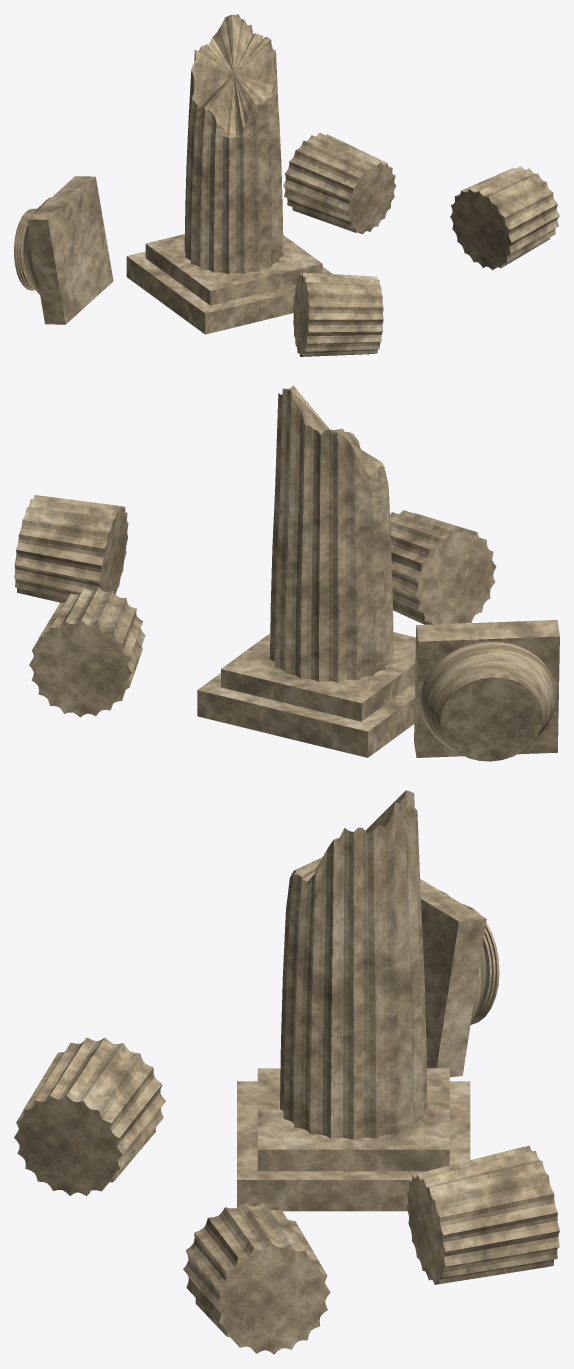
File: colonna_dorica_spezzata.gltf
3 renders of one model, top to bottom at view 1: azimuth 30°, elevation 25°; view 2: azimuth 150°, elevation 25°; view 3: azimuth 270°, elevation 25°, orthographic. The views are drawn at different scales.
Visible parts, largest first — view 1: colonna_dorica_spezzata; view 2: colonna_dorica_spezzata; view 3: colonna_dorica_spezzata.
Part boxes in pixels (<box>): colonna_dorica_spezzata: <box>14,14,559,356</box>; colonna_dorica_spezzata: <box>14,385,559,761</box>; colonna_dorica_spezzata: <box>14,790,559,1354</box>.
Size of the model in its own units: 4.73 by 2.5 by 3.18.
Materials: 1 (1 with a texture image).
